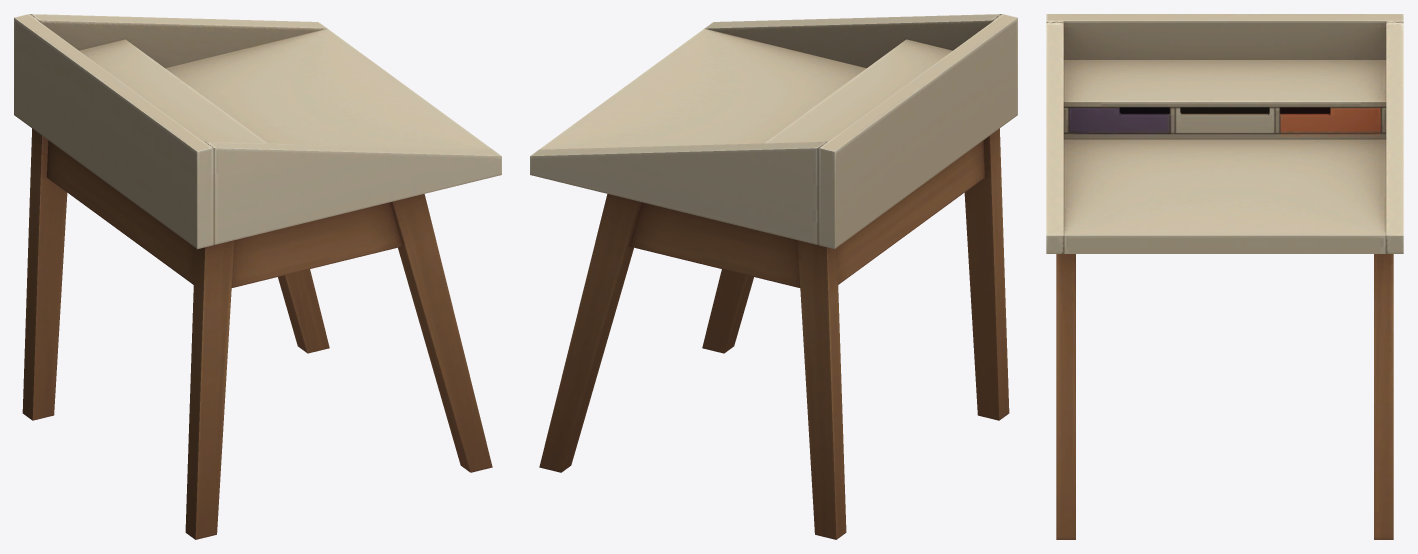
File: TinyLiving小书桌.glb
The picture shows the model from 3 angles, left to right: view 1: azimuth 30°, elevation 25°; view 2: azimuth 150°, elevation 25°; view 3: azimuth 270°, elevation 25°; orthographic projection. The views are drawn at different scales.
Parts seen in each view (by area): view 1: TinyLiving_TinyDeskForTinyLiving_37; view 2: TinyLiving_TinyDeskForTinyLiving_37; view 3: TinyLiving_TinyDeskForTinyLiving_37.
Boxes of the visible parts, bbox=[...] form: TinyLiving_TinyDeskForTinyLiving_37: bbox=[14, 14, 501, 539]; TinyLiving_TinyDeskForTinyLiving_37: bbox=[530, 14, 1017, 539]; TinyLiving_TinyDeskForTinyLiving_37: bbox=[1046, 14, 1403, 539].
Size of the model in its own units: 0.8119 by 1 by 0.8465.
1 material, 1 textured.
